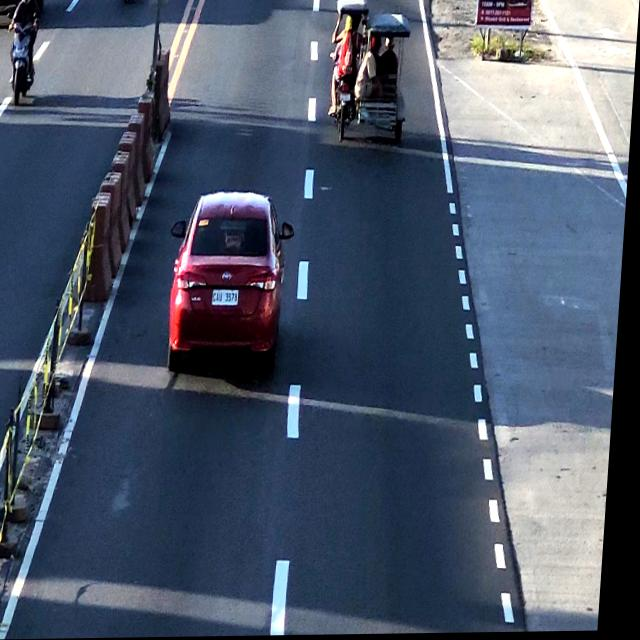Car: (169, 190, 291, 376)
License-Plate: (213, 287, 246, 310)
Tricycle: (331, 0, 410, 141)
